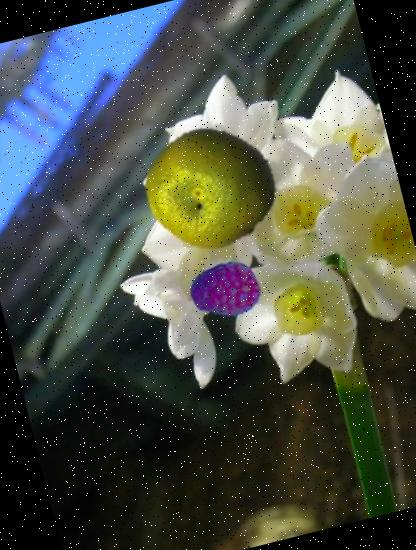Pomelo: (134, 110, 289, 265)
Raspberry: (184, 250, 269, 334)
